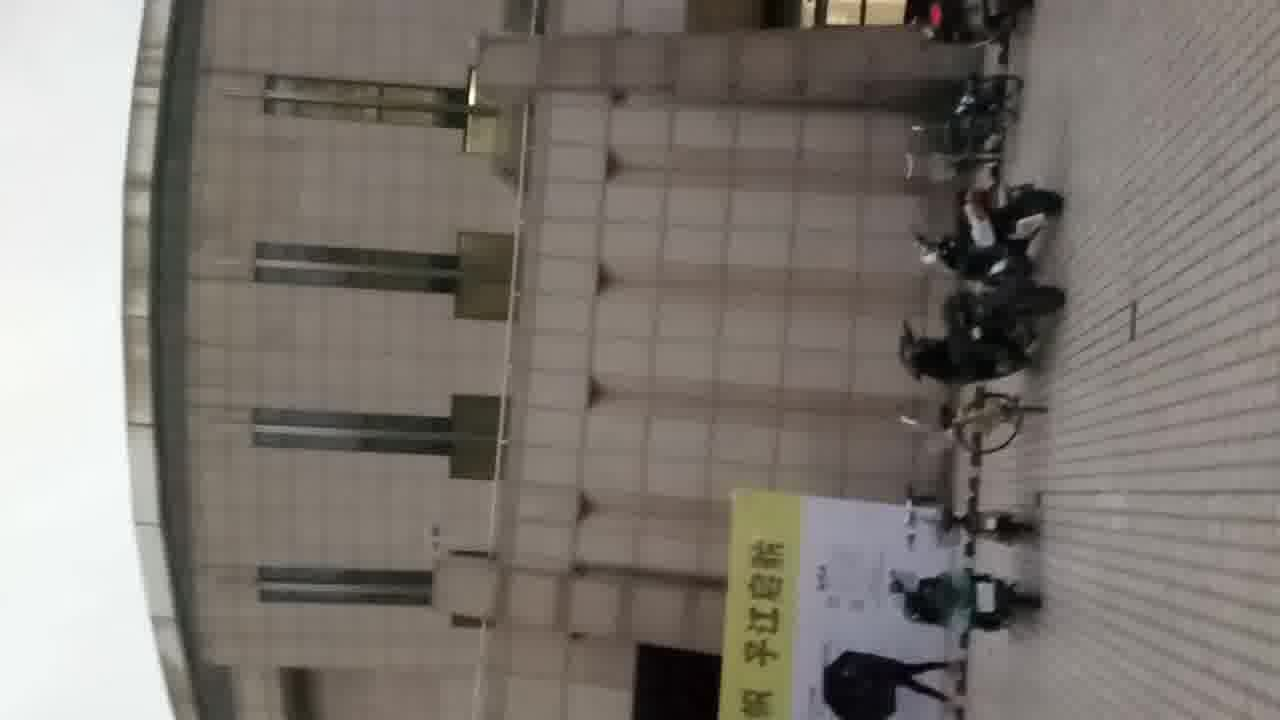zhongtiww: (112, 1, 955, 720)
